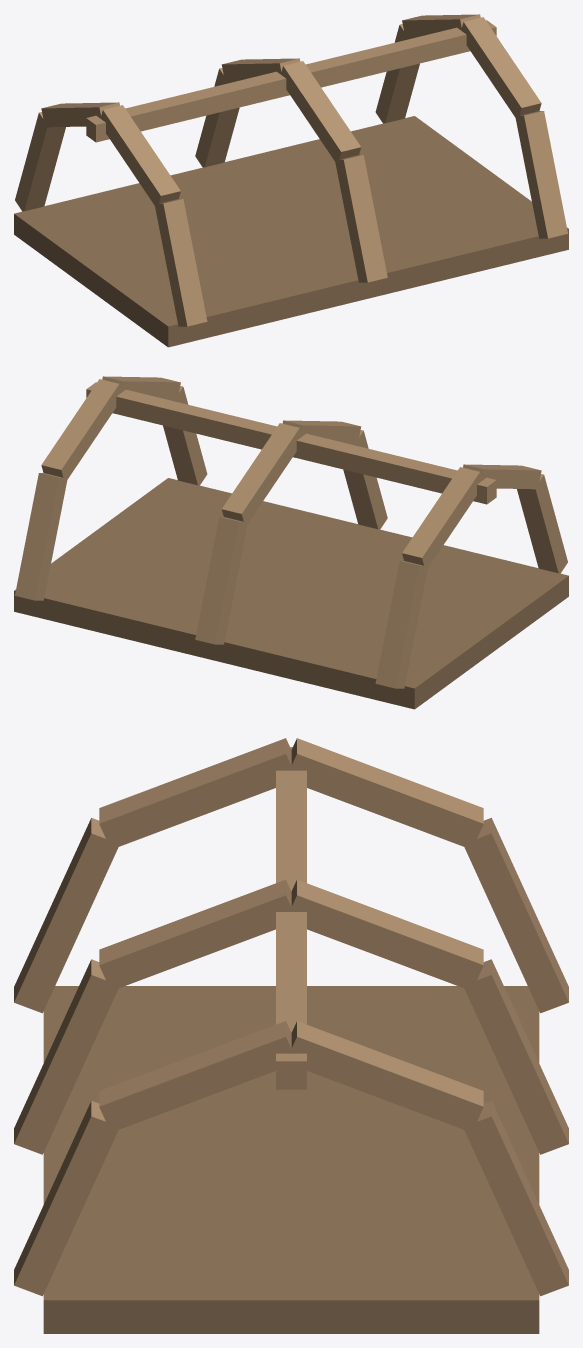
The model's file is prop-lobster-pot.fbx.
The picture shows the model from 3 angles, top to bottom: view 1: azimuth 30°, elevation 25°; view 2: azimuth 150°, elevation 25°; view 3: azimuth 270°, elevation 25°; orthographic projection. The views are drawn at different scales.
Parts seen in each view (by area): view 1: prop-lobster-pot; view 2: prop-lobster-pot; view 3: prop-lobster-pot.
Boxes of the visible parts, bbox=[...] form: prop-lobster-pot: bbox=[14, 14, 568, 347]; prop-lobster-pot: bbox=[14, 376, 568, 709]; prop-lobster-pot: bbox=[14, 738, 568, 1333].
Size of the model in its own units: 60 by 25.75 by 44.77.
